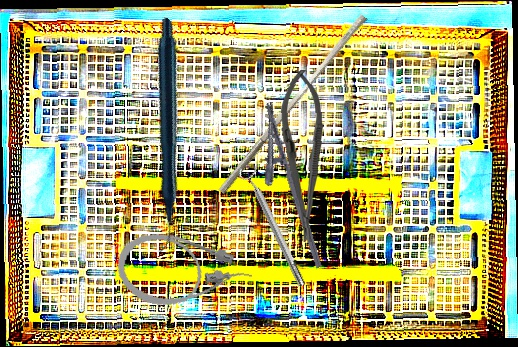Cannula: (111, 225, 257, 322)
Fixation Ring: (236, 161, 311, 291)
Handpiece: (50, 16, 276, 254)
Needle Holder: (243, 101, 323, 276), (278, 69, 328, 243)
Pusher: (218, 9, 368, 200)
